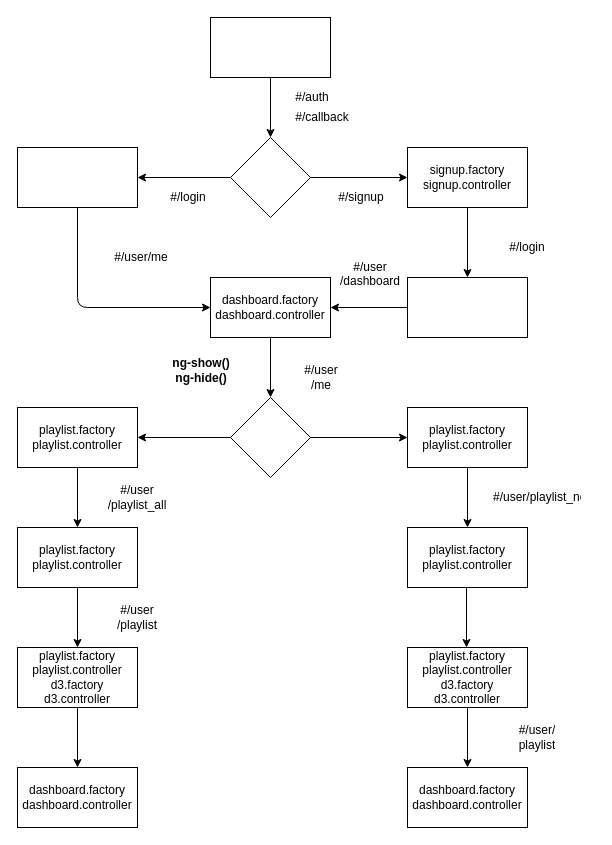
The diagram is 612 pixels wide and 845 high, and some of its shapes have lost their labels. Each missing label, with the box of its shape:
auth.factory auth.controller: (210, 16, 330, 78)
login.controller: (406, 276, 528, 338)
login.factory login.controller: (16, 146, 138, 208)
